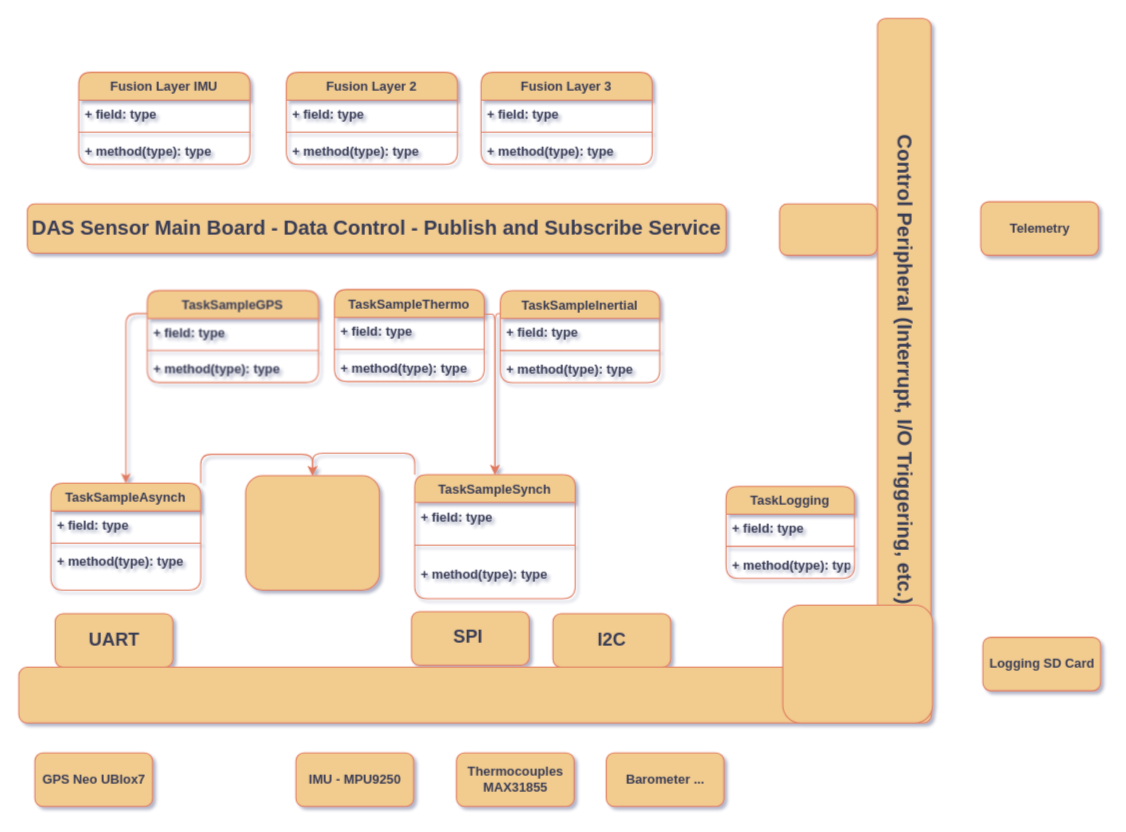
Some shapes in this 1126 by 832 pixel diagram are drawn without their labels. Here are the shapes that lost their labels. From the top down, the centre of each, then its label:
At point (827, 229): "UART ?".
At point (311, 532): "Sensor Base Async Sensor + sample() + parse()".
At point (857, 663): "Datalogging / External Communication UART, SPI, I2C, ...".
At point (474, 694): "PERRIPHERAL".
